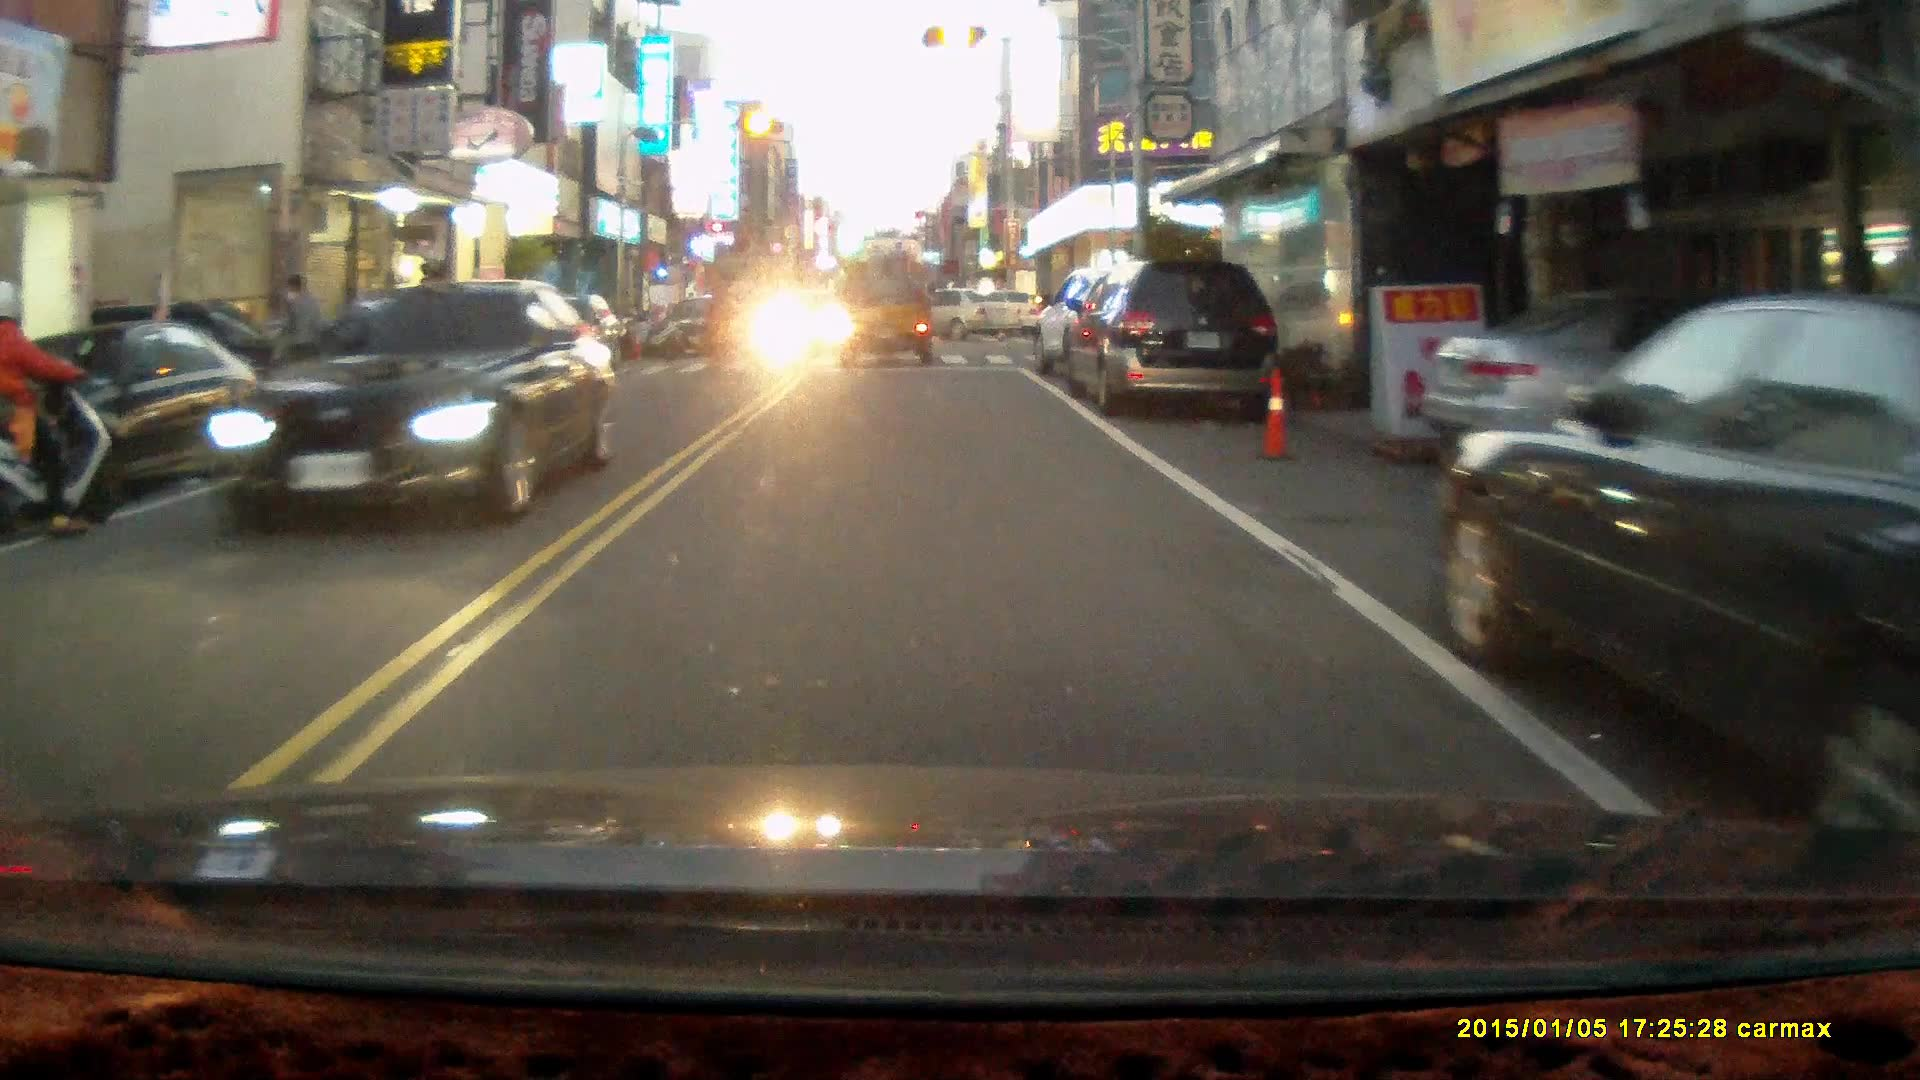pedestrian: (273, 269, 326, 418)
rider: (0, 272, 125, 543)
vehicle: (1440, 298, 1920, 819), (199, 277, 611, 542), (1417, 290, 1876, 497), (1060, 254, 1285, 420), (1032, 261, 1207, 394), (839, 257, 937, 366), (875, 285, 1019, 343), (662, 299, 748, 359)
